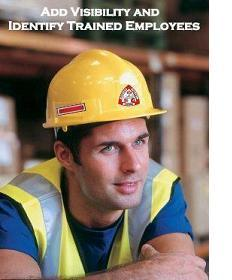helmet: (40, 51, 166, 130)
